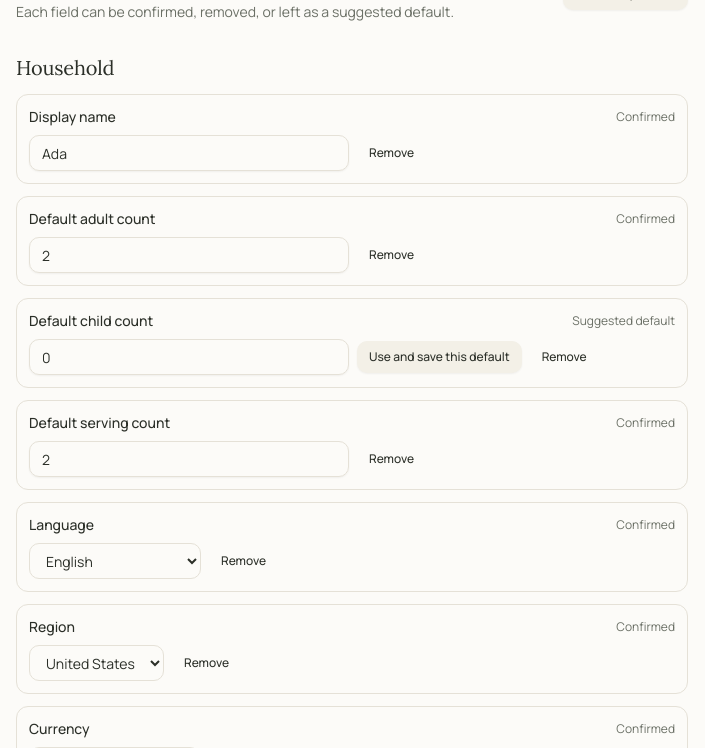
it: ProfileDataPage › blocks submit with a local field error instead of coercing an empty numeric field to 0
Clear the number field with test id "profile-data-input-defaultAdultCount" at (189, 255), box [29,237,349,273]
(page scrolled)
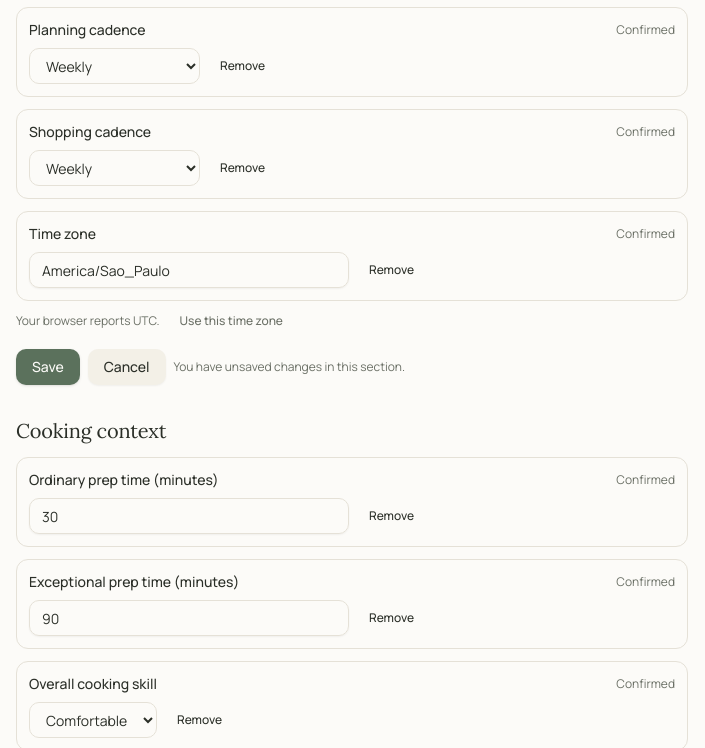
Click the button with test id "profile-data-household-save".
click(48, 367)  # box [16,349,80,385]
(page scrolled)
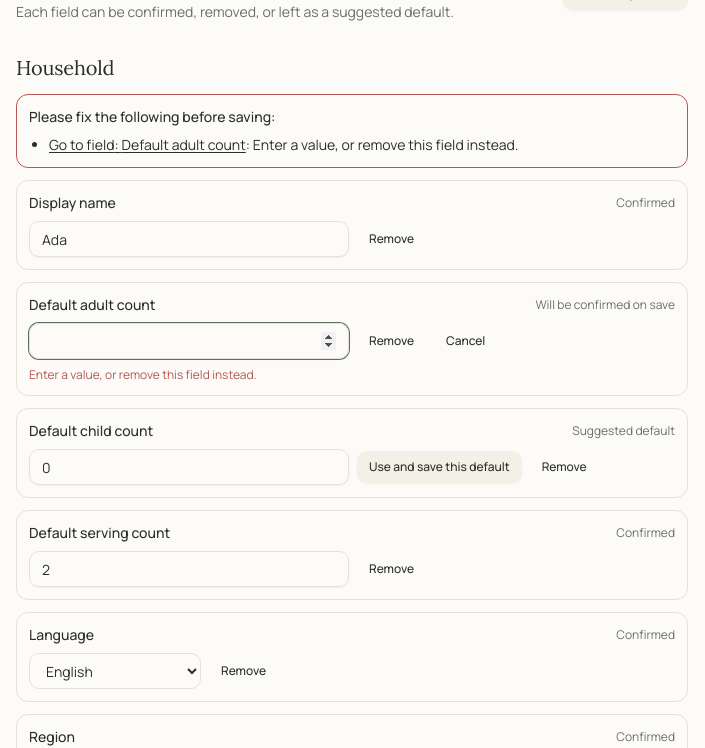
Now the message "Enter a value, or remove this field instead." is shown, box [29,366,257,383]
Now the message with test id "profile-data-household-error-summary" is shown, box [16,94,688,168]
